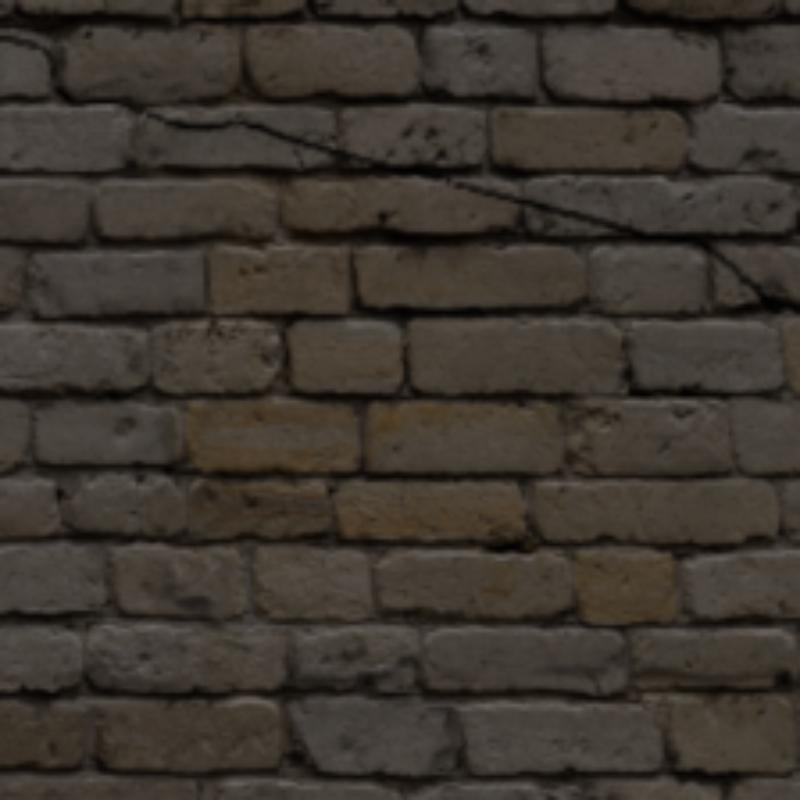pothole: (0, 36, 796, 311)
